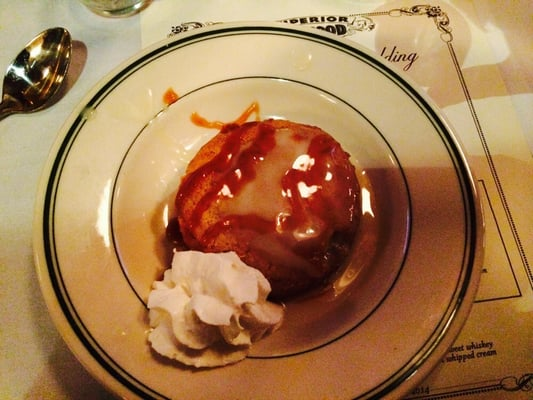salad: (0, 27, 72, 121)
